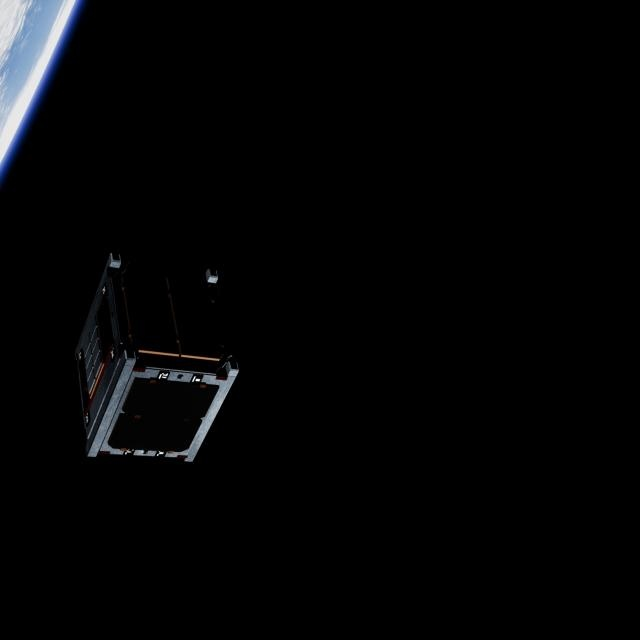satellite: (64, 237, 244, 477)
